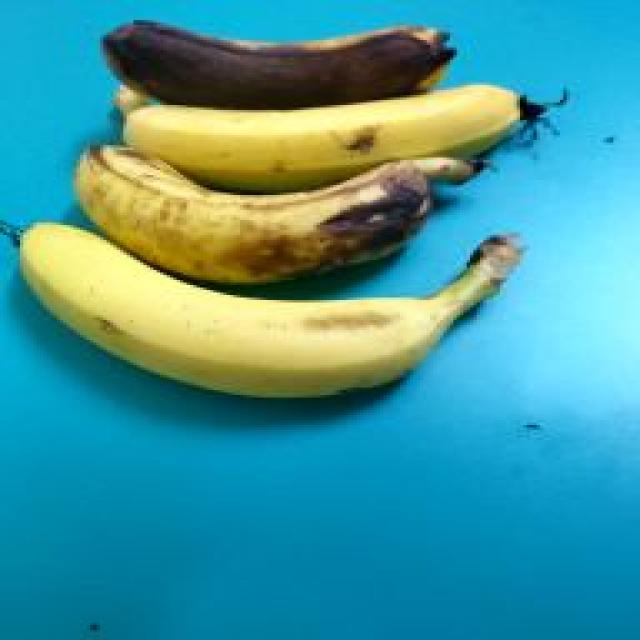Organik: (16, 215, 558, 409), (59, 140, 486, 281), (91, 72, 569, 183), (73, 0, 475, 109)
